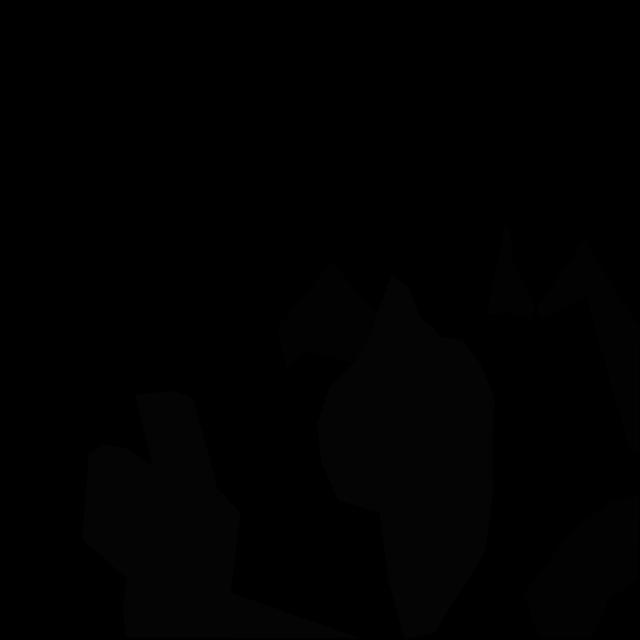cardboard: (536, 240, 640, 452), (523, 494, 639, 639), (277, 260, 376, 369), (486, 222, 536, 319)
soft_plastic: (82, 391, 360, 639), (317, 274, 495, 640)
